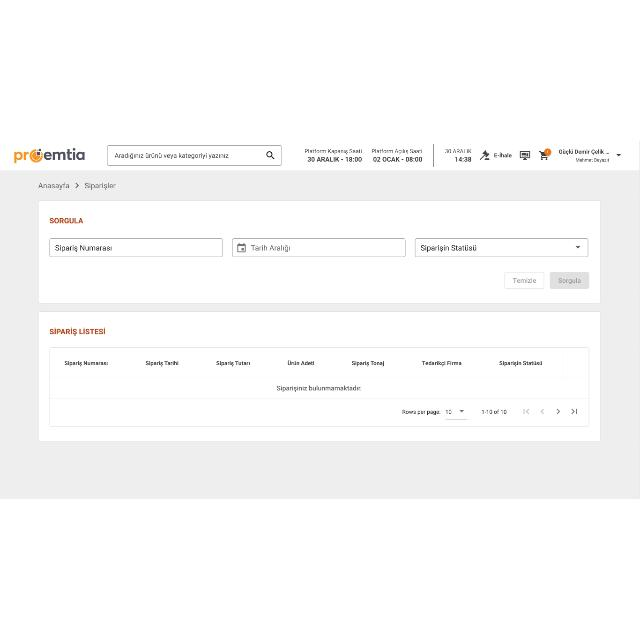QLabel: (49, 326, 107, 336), (303, 146, 363, 154), (558, 148, 610, 156), (50, 215, 84, 225), (306, 156, 362, 162), (556, 274, 582, 286), (372, 148, 424, 154), (372, 156, 422, 162), (574, 157, 612, 163), (512, 276, 538, 284), (444, 148, 472, 154), (493, 153, 512, 159), (454, 156, 472, 162)
VAppBar: (0, 142, 640, 172)
VBadge: (538, 148, 552, 162)
VBreadcrumbs: (36, 180, 118, 192)
VBtn: (504, 272, 544, 290), (549, 272, 589, 290)
VCard: (39, 311, 600, 443), (38, 201, 600, 303)
VCombobox: (416, 238, 588, 258)
VDataTable: (48, 348, 590, 428)
VDivider: (432, 144, 436, 168)
VIcon: (519, 148, 531, 162), (480, 150, 490, 160), (615, 152, 623, 158)
VImg: (13, 148, 86, 164)
VInlineDatepicker: (232, 238, 406, 258)
VTextField: (106, 146, 282, 166), (49, 239, 222, 257)
